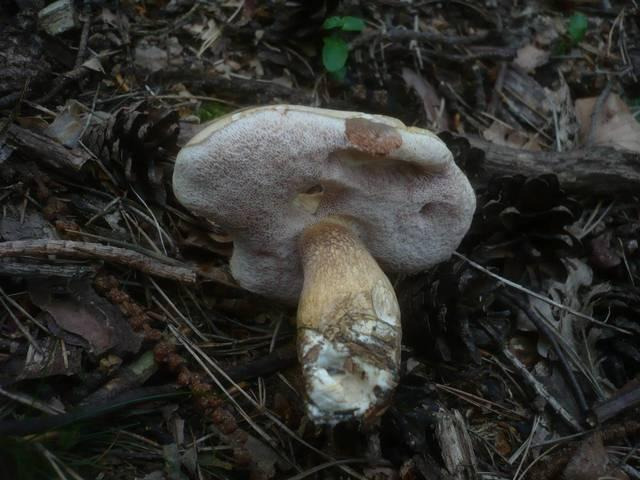Non-edible Mushroom: (170, 101, 477, 430), (293, 219, 403, 429)
